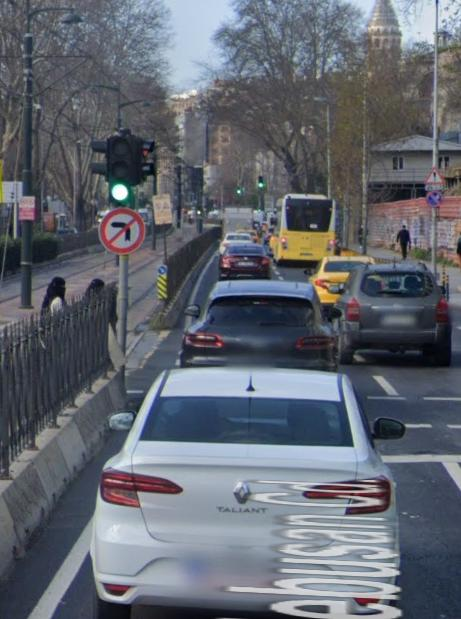greenlight: (105, 137, 133, 207), (233, 182, 243, 197), (257, 176, 266, 191)
leftturnsareforbidden: (98, 209, 142, 251)
